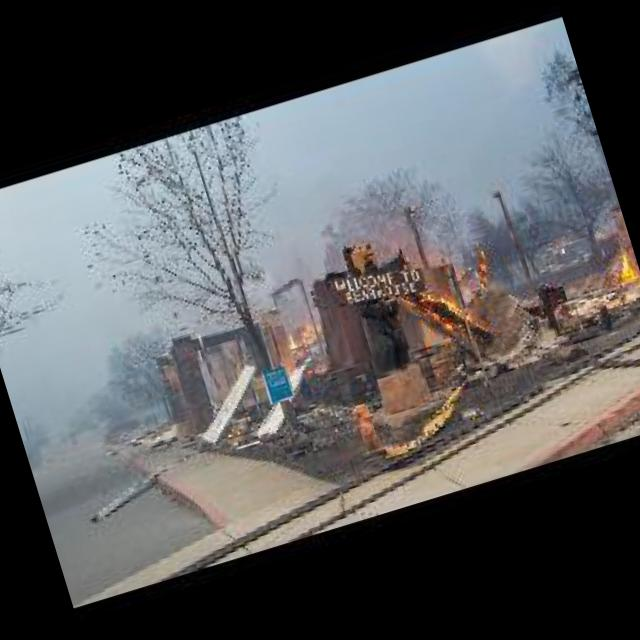fire: (394, 259, 502, 362), (590, 190, 640, 306)
